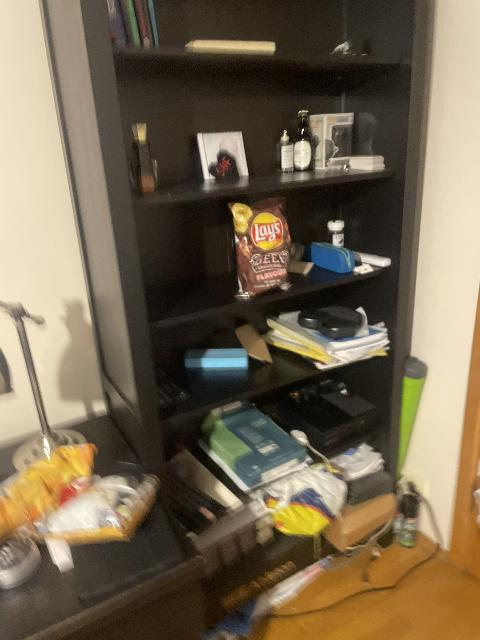Chio Cascaval 125g: (0, 417, 102, 525)
Chio Hula Hoops Cheese 70g: (41, 473, 155, 545)
Lays Beef Grilled Ribs 125g: (229, 196, 294, 297)
